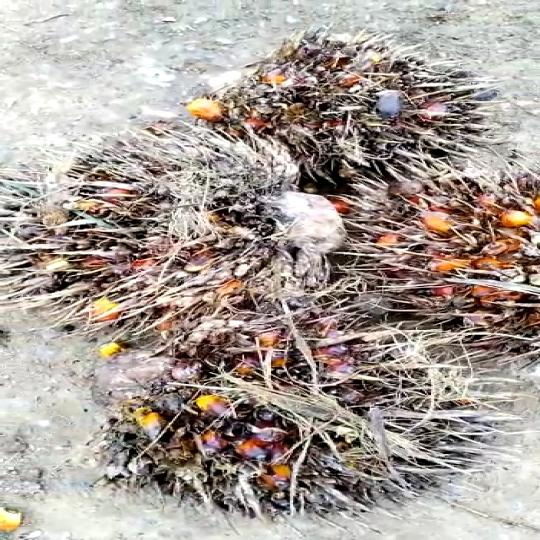terlalu masak: (88, 379, 484, 515), (0, 146, 300, 322), (336, 168, 540, 368), (236, 42, 492, 175)
